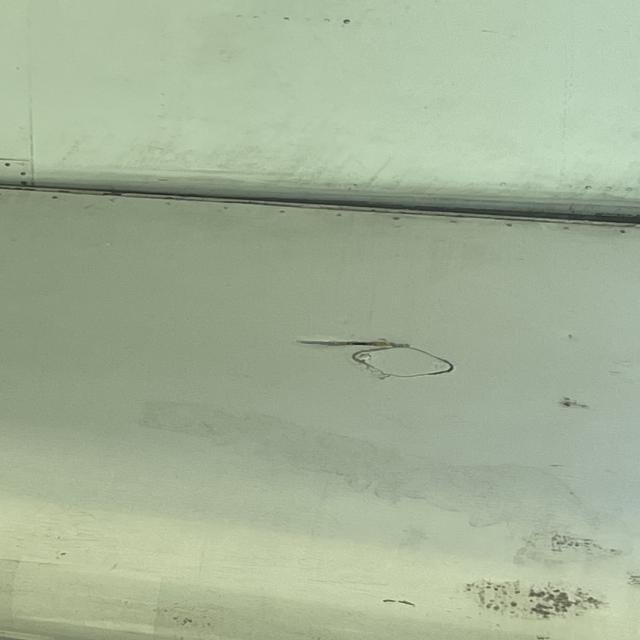crack: (293, 332, 418, 353)
